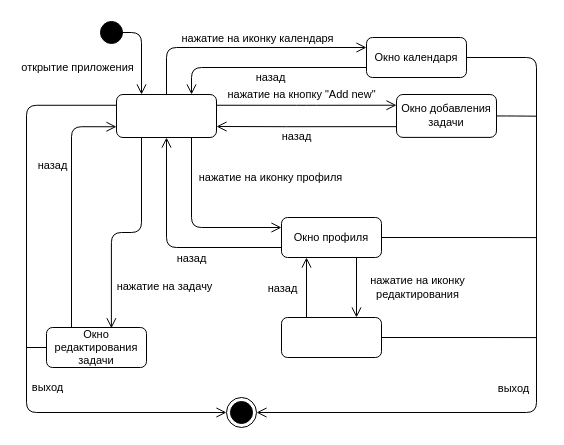
The diagram is 564 pixels wide and 445 high, and some of its shapes have lost their labels. The centre of each missing label's shape, as x and y in pixels:
"Окно задач" goes at [166,116].
"Окно редактирования профиля" goes at [331,337].
